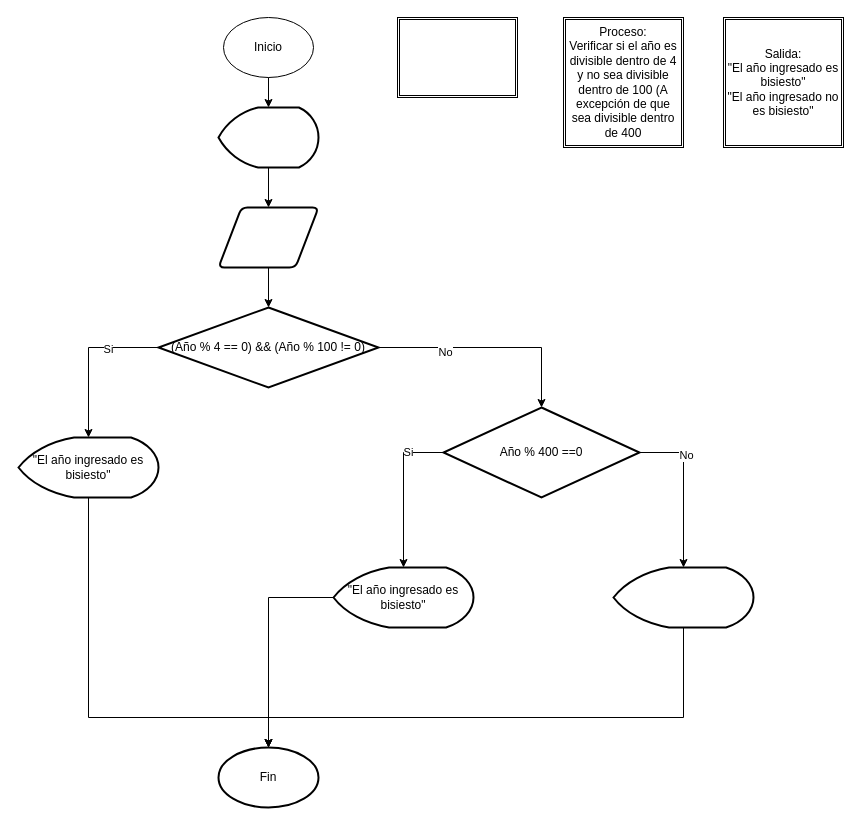
Image size: 861x826. Some labels were removed from this diagram. The shapes that lost their labels are listed below. From the top down, each one's centre as x and y in pixels, then its label:
pixel 457 57: Entrada: El año ingresado
pixel 268 137: "Ingrese un año"
pixel 268 237: año
pixel 683 597: "El año ingresado no es bisiesto"
